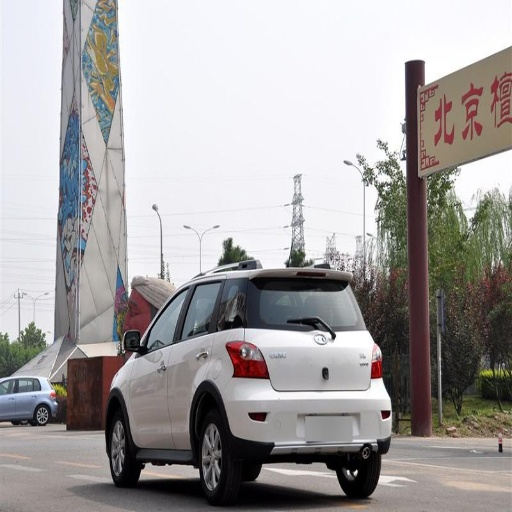back_bumper: (226, 377, 389, 450)
back_glass: (197, 277, 363, 328)
back_left_door: (168, 302, 207, 447)
trunk: (252, 333, 374, 414)
